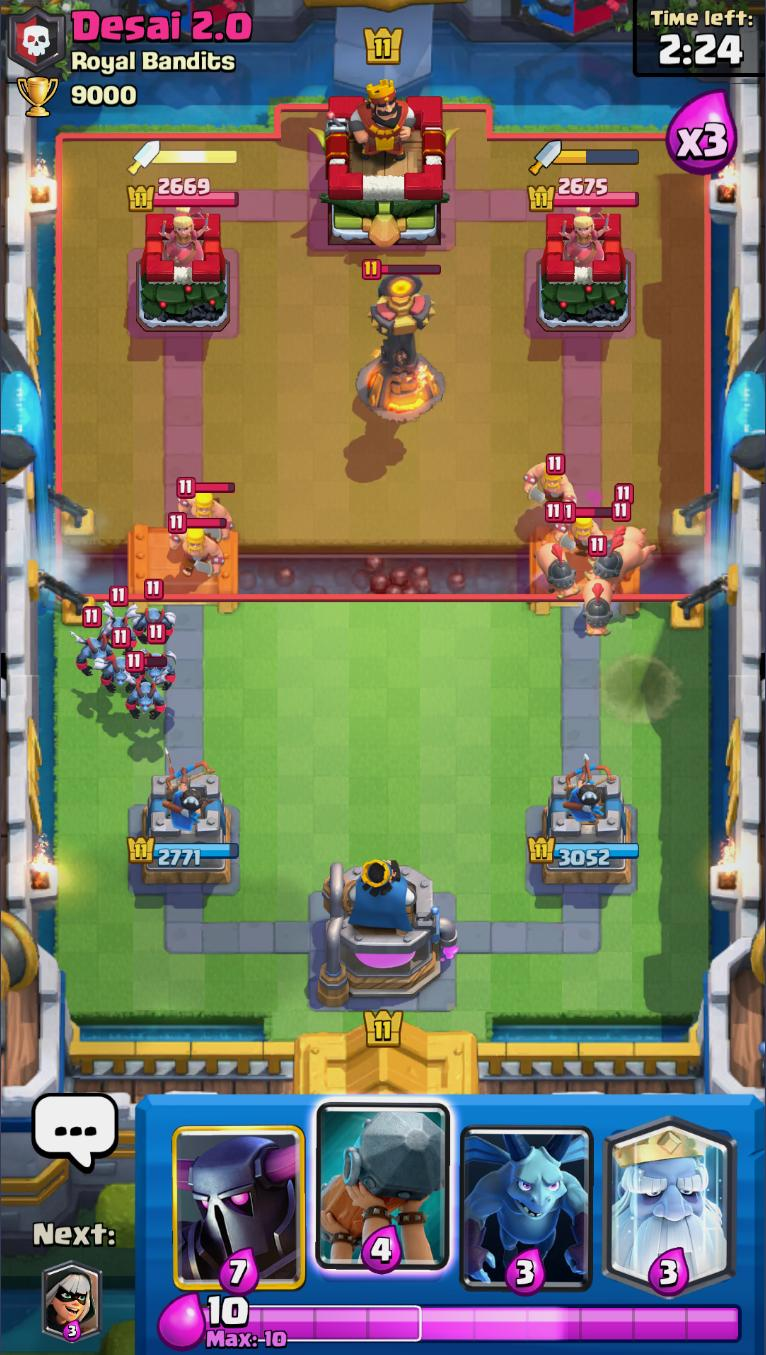BanditNext: (41, 1264, 103, 1343)
Barbarian: (163, 511, 229, 581), (174, 476, 239, 540), (556, 500, 616, 560), (523, 453, 580, 516)
BattleRamDeck: (313, 1099, 451, 1297)
DaggerDuchess: (157, 206, 210, 266), (557, 206, 611, 264)
Daggers: (126, 140, 240, 176), (531, 139, 640, 173)
Elixir: (203, 1294, 744, 1351)
EnemyTower: (136, 214, 234, 334), (539, 211, 633, 333)
Inferno: (353, 259, 449, 426)
KingTower: (320, 74, 451, 251)
Minion: (129, 579, 179, 644), (74, 604, 116, 676), (136, 621, 180, 689), (124, 653, 167, 720), (101, 586, 139, 653), (100, 627, 136, 693)
MinionsDeck: (454, 1096, 600, 1296)
MyKingTower: (314, 859, 460, 1011)
MyPrincessTower: (124, 770, 240, 893), (527, 771, 641, 889)
MyPrincessTowerHP: (126, 837, 240, 866), (526, 837, 640, 866)
PekkaDeck: (166, 1096, 311, 1294)
RoyaleGhostDeck: (597, 1094, 741, 1299)
RoyalePig: (596, 503, 657, 583), (533, 503, 581, 600), (580, 536, 617, 640), (609, 484, 649, 544)
TowerPrincessHP: (127, 174, 240, 210), (530, 176, 641, 210)
